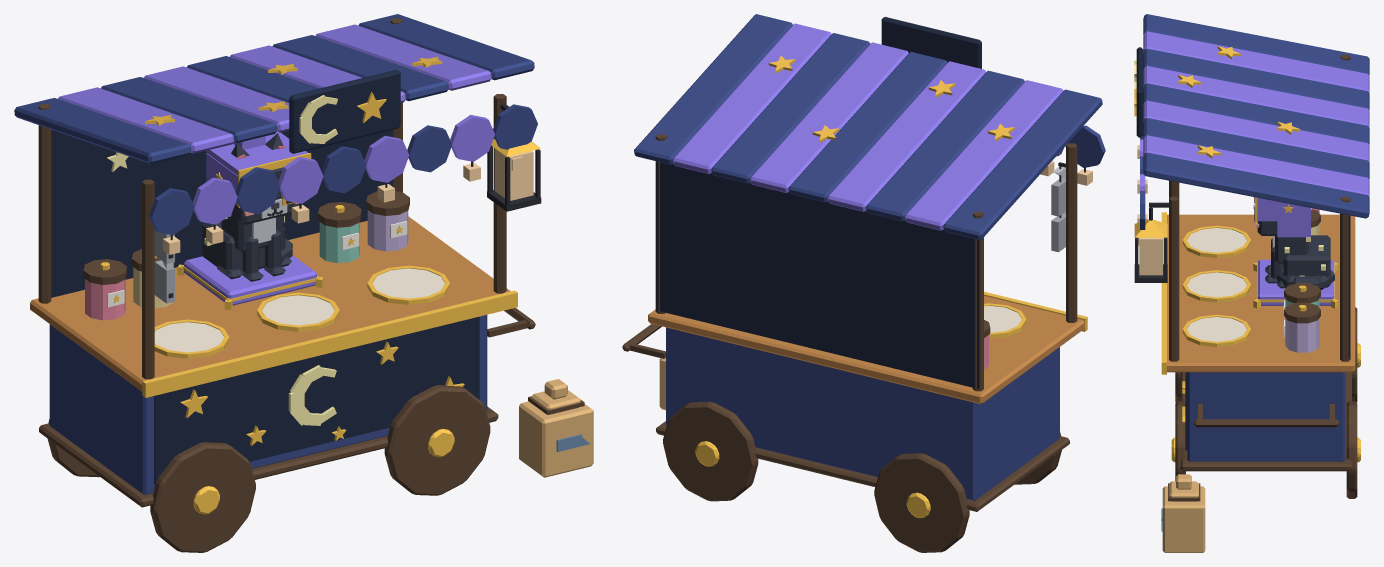
File: CatCafe_Street_DealerCart.glb
3 renders of one model, left to right at view 1: azimuth 30°, elevation 25°; view 2: azimuth 150°, elevation 25°; view 3: azimuth 270°, elevation 25°, orthographic. The views are drawn at different scales.
Visible parts, largest first — view 1: CatCafe_Street_DealerCart_Cart, CatCafe_Street_DealerCart_Cat_Body, CatCafe_Street_DealerCart_Cat_Prop, CatCafe_Street_DealerCart_Bulbs, CatCafe_Street_DealerCart_Bulb, CatCafe_Street_DealerCart_Cat_Head, CatCafe_Street_DealerCart_Cat_LegF2; view 2: CatCafe_Street_DealerCart_Cart; view 3: CatCafe_Street_DealerCart_Cart, CatCafe_Street_DealerCart_Cat_Body, CatCafe_Street_DealerCart_Cat_Prop, CatCafe_Street_DealerCart_Bulb, CatCafe_Street_DealerCart_Cat_Tail, CatCafe_Street_DealerCart_Cat_Head, CatCafe_Street_DealerCart_Cat_LegF1.
Boxes of the visible parts, <box> form: CatCafe_Street_DealerCart_Cart: <box>14,14,593,552</box>; CatCafe_Street_DealerCart_Cat_Body: <box>202,215,291,279</box>; CatCafe_Street_DealerCart_Cat_Prop: <box>206,131,311,216</box>; CatCafe_Street_DealerCart_Bulbs: <box>163,156,523,254</box>; CatCafe_Street_DealerCart_Bulb: <box>494,148,533,200</box>; CatCafe_Street_DealerCart_Cat_Head: <box>231,167,299,224</box>; CatCafe_Street_DealerCart_Cat_LegF2: <box>242,236,263,281</box>; CatCafe_Street_DealerCart_Cart: <box>622,14,1105,552</box>; CatCafe_Street_DealerCart_Cart: <box>1134,14,1369,552</box>; CatCafe_Street_DealerCart_Cat_Body: <box>1272,235,1330,288</box>; CatCafe_Street_DealerCart_Cat_Prop: <box>1255,197,1311,237</box>; CatCafe_Street_DealerCart_Bulb: <box>1139,237,1162,275</box>; CatCafe_Street_DealerCart_Cat_Tail: <box>1277,269,1334,290</box>; CatCafe_Street_DealerCart_Cat_Head: <box>1254,221,1277,235</box>; CatCafe_Street_DealerCart_Cat_LegF1: <box>1265,246,1283,283</box>.
Bounding box in the file's own units: 6.63 × 6.35 × 3.57.
Materials: 1 (1 with a texture image).
